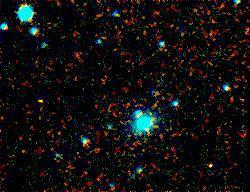star: (25, 82, 55, 112)
